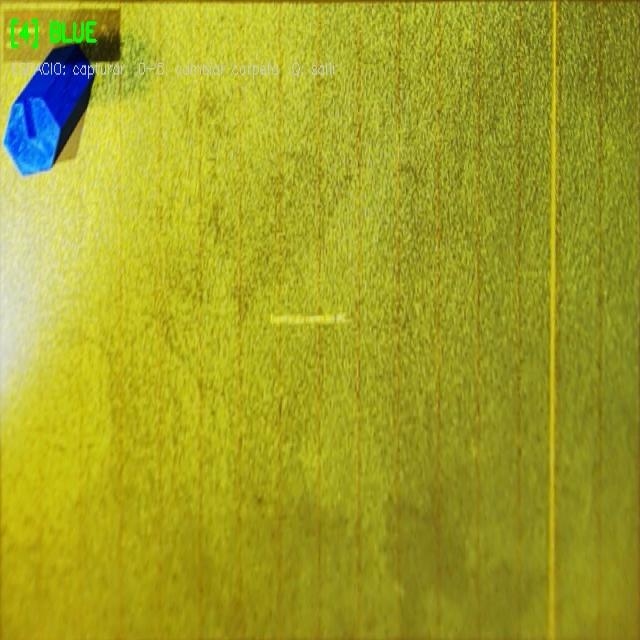blue: (3, 45, 93, 173)
